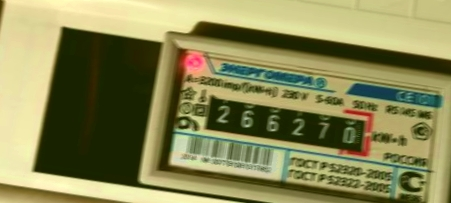0: (339, 124, 356, 146)
2: (214, 103, 230, 126), (290, 117, 306, 138)
6: (238, 108, 253, 130), (264, 113, 280, 133)
7: (316, 120, 328, 141)
screen: (190, 83, 380, 165)
